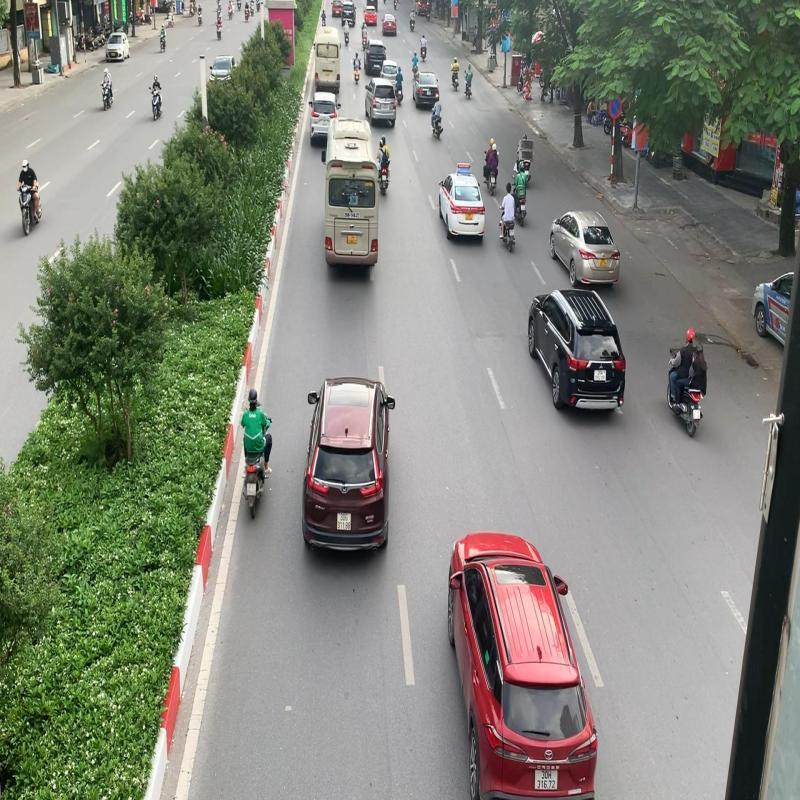helmet: (248, 388, 259, 408), (686, 328, 695, 344), (695, 343, 704, 357)
licenseplate: (246, 482, 256, 496), (693, 408, 700, 419)
motorcyclist: (666, 327, 708, 438), (240, 388, 274, 520), (500, 183, 516, 254)
nohelmet: (506, 182, 512, 193)
